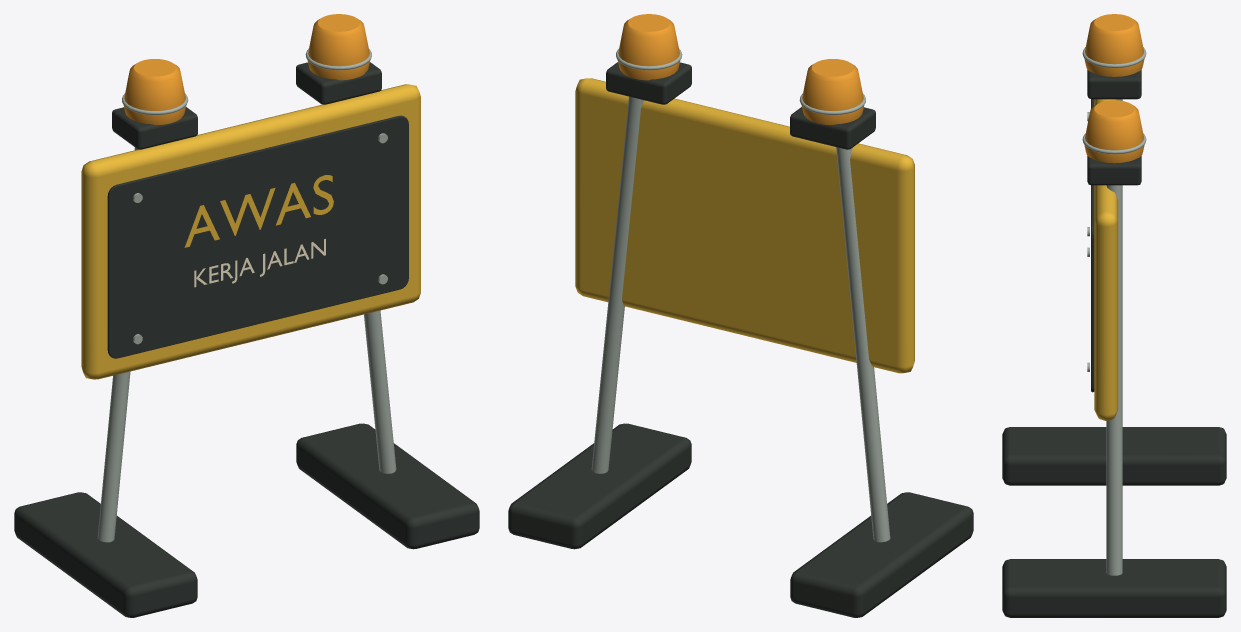
The picture shows the model from 3 angles, left to right: view 1: azimuth 30°, elevation 25°; view 2: azimuth 150°, elevation 25°; view 3: azimuth 270°, elevation 25°; orthographic projection. The views are drawn at different scales.
Parts seen in each view (by area): view 1: Panel, Feet, Beacons, Frame, Lettering; view 2: Panel, Feet, Frame, Beacons; view 3: Feet, Beacons, Panel, Frame.
Boxes of the visible parts, <box> form: Panel: <box>81,84,420,379</box>; Feet: <box>14,423,479,617</box>; Beacons: <box>112,14,381,149</box>; Frame: <box>97,147,396,542</box>; Lettering: <box>184,175,333,287</box>; Panel: <box>575,78,914,373</box>; Feet: <box>508,423,973,617</box>; Frame: <box>591,96,890,542</box>; Beacons: <box>606,14,875,149</box>; Feet: <box>1002,427,1226,617</box>; Beacons: <box>1082,14,1146,185</box>; Panel: <box>1091,99,1118,420</box>; Frame: <box>1106,99,1122,575</box>.
Size of the model in its own units: 0.58 by 0.766 by 0.33.
